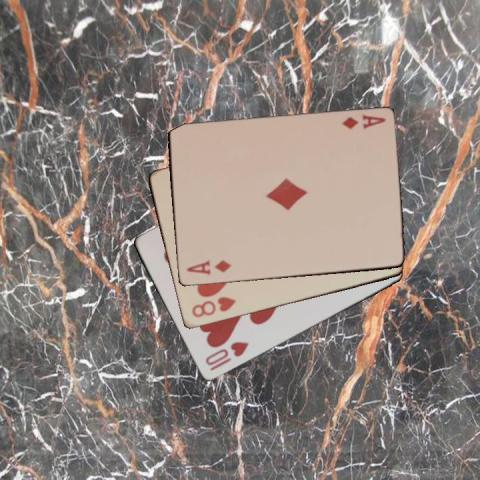10h: (202, 338, 250, 372)
8h: (189, 294, 237, 319)
Ad: (183, 257, 233, 277), (338, 111, 387, 131)
